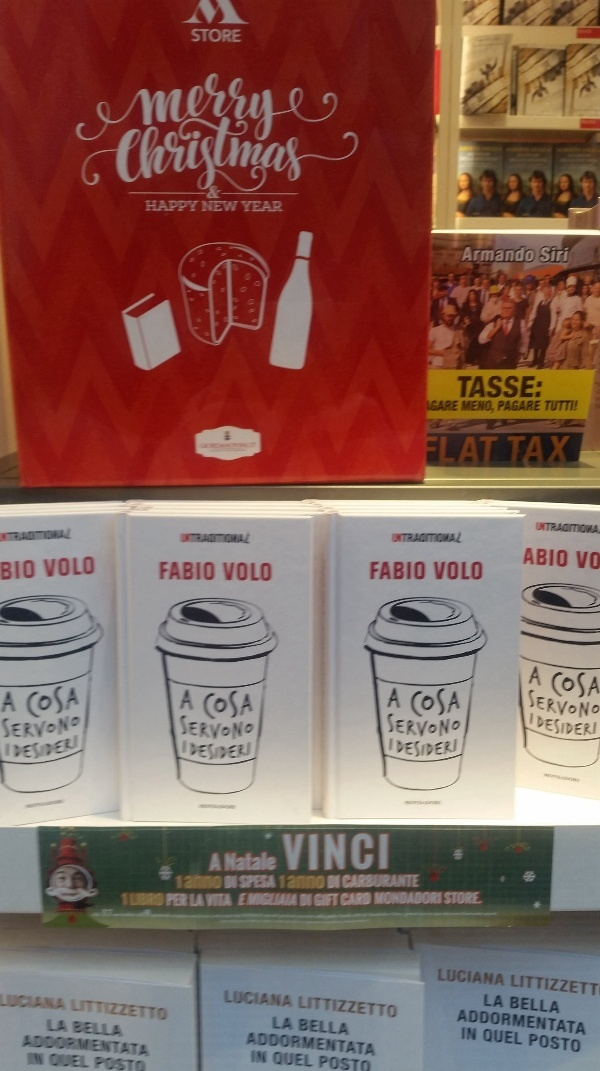text: (97, 115, 112, 192), (113, 115, 128, 192), (129, 115, 144, 192), (145, 115, 160, 192), (161, 115, 176, 192), (177, 115, 192, 192), (193, 115, 208, 192), (209, 115, 224, 192), (225, 115, 240, 192), (241, 115, 256, 192), (257, 115, 272, 192), (273, 115, 288, 192), (289, 115, 304, 192), (305, 115, 320, 192), (321, 115, 336, 192), (337, 115, 352, 192), (97, 66, 112, 139), (113, 66, 128, 139), (129, 66, 144, 139), (145, 66, 160, 139), (161, 66, 176, 139), (177, 66, 192, 139), (193, 66, 208, 139), (209, 66, 224, 139), (225, 66, 240, 139), (241, 66, 256, 139), (257, 66, 272, 139), (273, 66, 288, 139), (289, 66, 304, 139), (305, 66, 320, 139), (321, 66, 336, 139), (84, 66, 96, 139), (85, 115, 96, 192), (289, 833, 304, 872), (305, 833, 320, 872), (321, 833, 336, 872), (337, 833, 352, 872), (353, 833, 368, 872), (369, 833, 384, 872), (65, 683, 81, 718), (353, 115, 360, 192), (33, 683, 48, 718), (49, 683, 64, 718), (417, 686, 432, 718), (433, 686, 448, 718), (529, 689, 544, 720), (545, 689, 560, 720), (561, 689, 576, 720), (577, 689, 592, 720), (65, 714, 81, 742), (209, 690, 224, 719), (225, 690, 240, 719), (1, 714, 16, 742), (17, 714, 32, 742), (33, 714, 48, 742), (49, 714, 64, 742), (481, 437, 497, 463), (449, 686, 462, 718), (241, 690, 255, 719), (17, 735, 32, 762), (33, 735, 48, 762), (49, 735, 64, 762), (193, 714, 208, 741), (209, 714, 224, 741), (225, 714, 240, 741), (513, 436, 528, 462), (529, 436, 544, 462), (545, 436, 560, 462), (433, 437, 448, 463), (449, 437, 464, 463), (465, 437, 480, 463), (257, 1031, 272, 1057), (273, 1031, 288, 1057), (289, 1031, 304, 1057), (305, 1031, 320, 1057), (321, 1031, 336, 1057), (337, 1031, 352, 1057), (353, 1031, 368, 1057), (465, 1009, 480, 1035), (481, 1009, 496, 1035), (497, 1009, 512, 1035), (513, 1009, 528, 1035), (529, 1009, 544, 1035), (545, 1009, 560, 1035), (561, 1009, 576, 1035), (401, 713, 416, 738), (417, 713, 432, 738), (433, 713, 448, 738), (513, 973, 528, 998), (529, 973, 544, 998), (545, 973, 560, 998), (561, 973, 576, 998), (577, 973, 592, 998), (545, 712, 560, 736), (561, 712, 576, 736), (577, 712, 592, 736), (305, 995, 320, 1019), (321, 995, 336, 1019), (337, 995, 352, 1019), (353, 995, 368, 1019), (369, 995, 384, 1019), (65, 735, 78, 762), (241, 714, 254, 741), (530, 712, 544, 736), (465, 375, 480, 397), (481, 375, 496, 397), (497, 375, 512, 397), (513, 375, 528, 397), (193, 739, 208, 761), (209, 739, 224, 761), (225, 739, 240, 761), (81, 999, 96, 1021), (97, 999, 112, 1021), (113, 999, 128, 1021), (129, 999, 144, 1021), (145, 999, 160, 1021), (180, 714, 192, 741), (577, 550, 592, 571), (449, 967, 464, 988), (465, 967, 480, 988), (481, 967, 496, 988), (529, 375, 543, 397), (545, 995, 561, 1014), (1, 560, 16, 580), (17, 560, 32, 580), (49, 557, 64, 577), (65, 557, 80, 577), (529, 547, 544, 567), (545, 547, 560, 567), (388, 713, 400, 738), (449, 713, 461, 738), (401, 738, 416, 758), (417, 738, 432, 758), (433, 738, 448, 758), (33, 1036, 48, 1056), (49, 1036, 64, 1056), (65, 1036, 80, 1056), (81, 1036, 96, 1056), (97, 1036, 112, 1056), (113, 1036, 128, 1056), (129, 1036, 144, 1056), (225, 989, 240, 1009), (241, 989, 256, 1009), (257, 989, 272, 1009), (273, 989, 288, 1009), (545, 1034, 560, 1054), (561, 1034, 576, 1054), (5, 735, 16, 762), (385, 995, 397, 1019), (161, 562, 176, 581), (177, 562, 192, 581), (193, 562, 208, 581), (465, 244, 480, 263), (481, 244, 496, 263), (497, 244, 512, 263), (513, 244, 528, 263), (385, 562, 400, 581), (401, 562, 416, 581), (449, 561, 464, 580), (465, 561, 480, 580), (305, 1017, 320, 1036), (321, 1017, 336, 1036), (513, 995, 528, 1014), (529, 995, 544, 1014), (530, 1034, 544, 1054), (225, 563, 240, 581), (241, 563, 256, 581), (545, 245, 560, 263), (225, 853, 240, 871), (241, 853, 256, 871), (257, 853, 272, 871), (273, 1051, 288, 1069), (289, 1051, 304, 1069), (434, 561, 448, 580), (81, 557, 94, 577), (225, 28, 241, 44), (497, 1029, 512, 1046), (257, 563, 271, 581), (371, 562, 384, 581), (241, 739, 252, 761), (193, 28, 208, 44), (209, 28, 224, 44), (1, 994, 16, 1010), (17, 994, 32, 1010), (33, 994, 48, 1010), (49, 994, 64, 1010), (81, 1021, 96, 1037), (97, 1021, 112, 1037), (177, 874, 192, 890), (193, 874, 208, 890), (561, 436, 570, 462), (282, 833, 288, 872), (577, 1009, 586, 1035), (337, 1017, 349, 1036), (49, 1054, 64, 1069), (65, 1054, 80, 1069), (289, 875, 304, 890), (305, 875, 320, 890), (353, 874, 368, 889), (369, 874, 384, 889), (385, 874, 400, 889), (401, 874, 416, 889), (129, 892, 144, 907), (145, 892, 160, 907), (465, 891, 481, 905), (337, 66, 340, 139), (593, 689, 600, 720), (209, 186, 224, 200), (465, 400, 480, 414), (545, 520, 560, 534), (561, 520, 576, 534), (577, 520, 592, 534), (449, 891, 464, 905), (209, 893, 224, 907), (257, 893, 272, 907), (273, 893, 288, 907), (321, 893, 336, 907), (273, 1016, 288, 1030), (321, 1056, 336, 1070), (337, 1056, 352, 1070), (353, 1056, 368, 1070), (213, 852, 224, 871), (209, 874, 222, 890), (484, 1029, 496, 1046), (390, 738, 400, 758), (7, 691, 16, 713), (71, 999, 80, 1021), (481, 400, 495, 414), (97, 1057, 112, 1070), (113, 1057, 128, 1070), (129, 1057, 144, 1070), (241, 876, 256, 889), (257, 876, 272, 889), (241, 893, 256, 906), (535, 666, 544, 687), (439, 967, 448, 988), (249, 1031, 256, 1057), (369, 1031, 376, 1057), (161, 199, 176, 211), (177, 199, 192, 211), (449, 738, 458, 758), (49, 1019, 64, 1031), (225, 877, 240, 889), (353, 893, 368, 905), (241, 440, 257, 451), (184, 739, 192, 761), (146, 199, 160, 211), (497, 967, 505, 988), (209, 440, 224, 451), (225, 440, 240, 451), (193, 533, 208, 544), (209, 533, 224, 544), (225, 533, 240, 544), (1, 531, 16, 542), (17, 531, 32, 542), (33, 531, 48, 542), (49, 531, 64, 542), (401, 533, 416, 544), (417, 533, 432, 544), (433, 533, 448, 544), (385, 893, 400, 904), (401, 893, 416, 904), (417, 893, 432, 904), (411, 686, 416, 718), (113, 1021, 123, 1037), (465, 1028, 477, 1041), (457, 375, 464, 397), (449, 533, 463, 544), (393, 687, 400, 709), (33, 1052, 44, 1066), (177, 893, 188, 907), (485, 994, 496, 1008), (513, 1029, 522, 1046), (417, 562, 425, 581), (209, 201, 224, 211), (241, 201, 256, 211), (257, 201, 272, 211), (433, 401, 448, 411), (513, 401, 528, 411), (545, 401, 560, 411), (561, 401, 576, 411), (545, 773, 560, 783), (561, 773, 576, 783), (185, 690, 192, 711), (593, 550, 600, 571), (561, 245, 569, 263), (49, 800, 65, 809), (305, 1051, 313, 1069), (193, 894, 204, 907), (28, 683, 32, 718), (561, 547, 568, 567), (25, 1036, 32, 1056), (33, 800, 48, 809), (81, 1054, 90, 1069), (343, 874, 352, 889), (257, 1049, 266, 1064), (529, 244, 536, 263), (180, 533, 192, 544), (161, 999, 167, 1021), (341, 893, 352, 905), (225, 201, 238, 211), (499, 401, 512, 411), (427, 437, 432, 463), (167, 893, 176, 907), (593, 973, 598, 998), (280, 875, 288, 890), (328, 875, 336, 890), (299, 995, 304, 1019), (385, 833, 388, 872), (536, 520, 544, 534), (73, 1021, 80, 1037), (225, 893, 233, 907), (529, 401, 540, 411), (508, 436, 512, 462), (273, 201, 283, 211), (43, 557, 48, 577), (449, 401, 459, 411), (289, 989, 294, 1009), (199, 440, 208, 451), (241, 533, 250, 544), (375, 893, 384, 904), (433, 893, 442, 904), (593, 520, 600, 534), (249, 893, 256, 907), (289, 893, 296, 907), (497, 994, 504, 1008), (593, 712, 597, 736), (209, 562, 214, 581), (299, 1017, 304, 1036), (122, 892, 128, 907), (392, 533, 400, 544), (205, 690, 208, 719), (314, 893, 320, 907), (145, 1036, 149, 1056), (577, 1034, 581, 1054), (305, 894, 311, 907), (461, 1009, 464, 1035), (417, 801, 432, 806), (193, 199, 199, 211), (201, 201, 208, 211), (27, 1052, 32, 1066), (65, 531, 71, 542), (209, 805, 224, 809), (321, 875, 325, 890), (444, 891, 448, 905), (289, 1016, 293, 1030), (405, 801, 416, 806), (541, 245, 544, 263), (26, 800, 32, 809), (273, 853, 276, 871), (273, 876, 277, 889), (300, 894, 304, 907), (225, 805, 237, 809), (433, 801, 442, 806), (337, 875, 340, 890), (417, 874, 420, 889), (161, 892, 164, 907), (253, 1049, 256, 1064), (526, 547, 528, 567), (65, 1019, 68, 1031), (200, 805, 208, 809), (65, 994, 67, 1010), (577, 773, 580, 783), (206, 893, 208, 907), (369, 1056, 371, 1070), (145, 1057, 147, 1070), (190, 894, 192, 907), (462, 1028, 464, 1041), (511, 973, 512, 998), (369, 893, 371, 905), (193, 690, 194, 711), (33, 560, 34, 580), (481, 561, 482, 580), (511, 995, 512, 1014), (223, 563, 224, 581), (463, 400, 464, 414), (337, 893, 338, 907), (95, 1057, 96, 1070), (577, 401, 578, 411)
